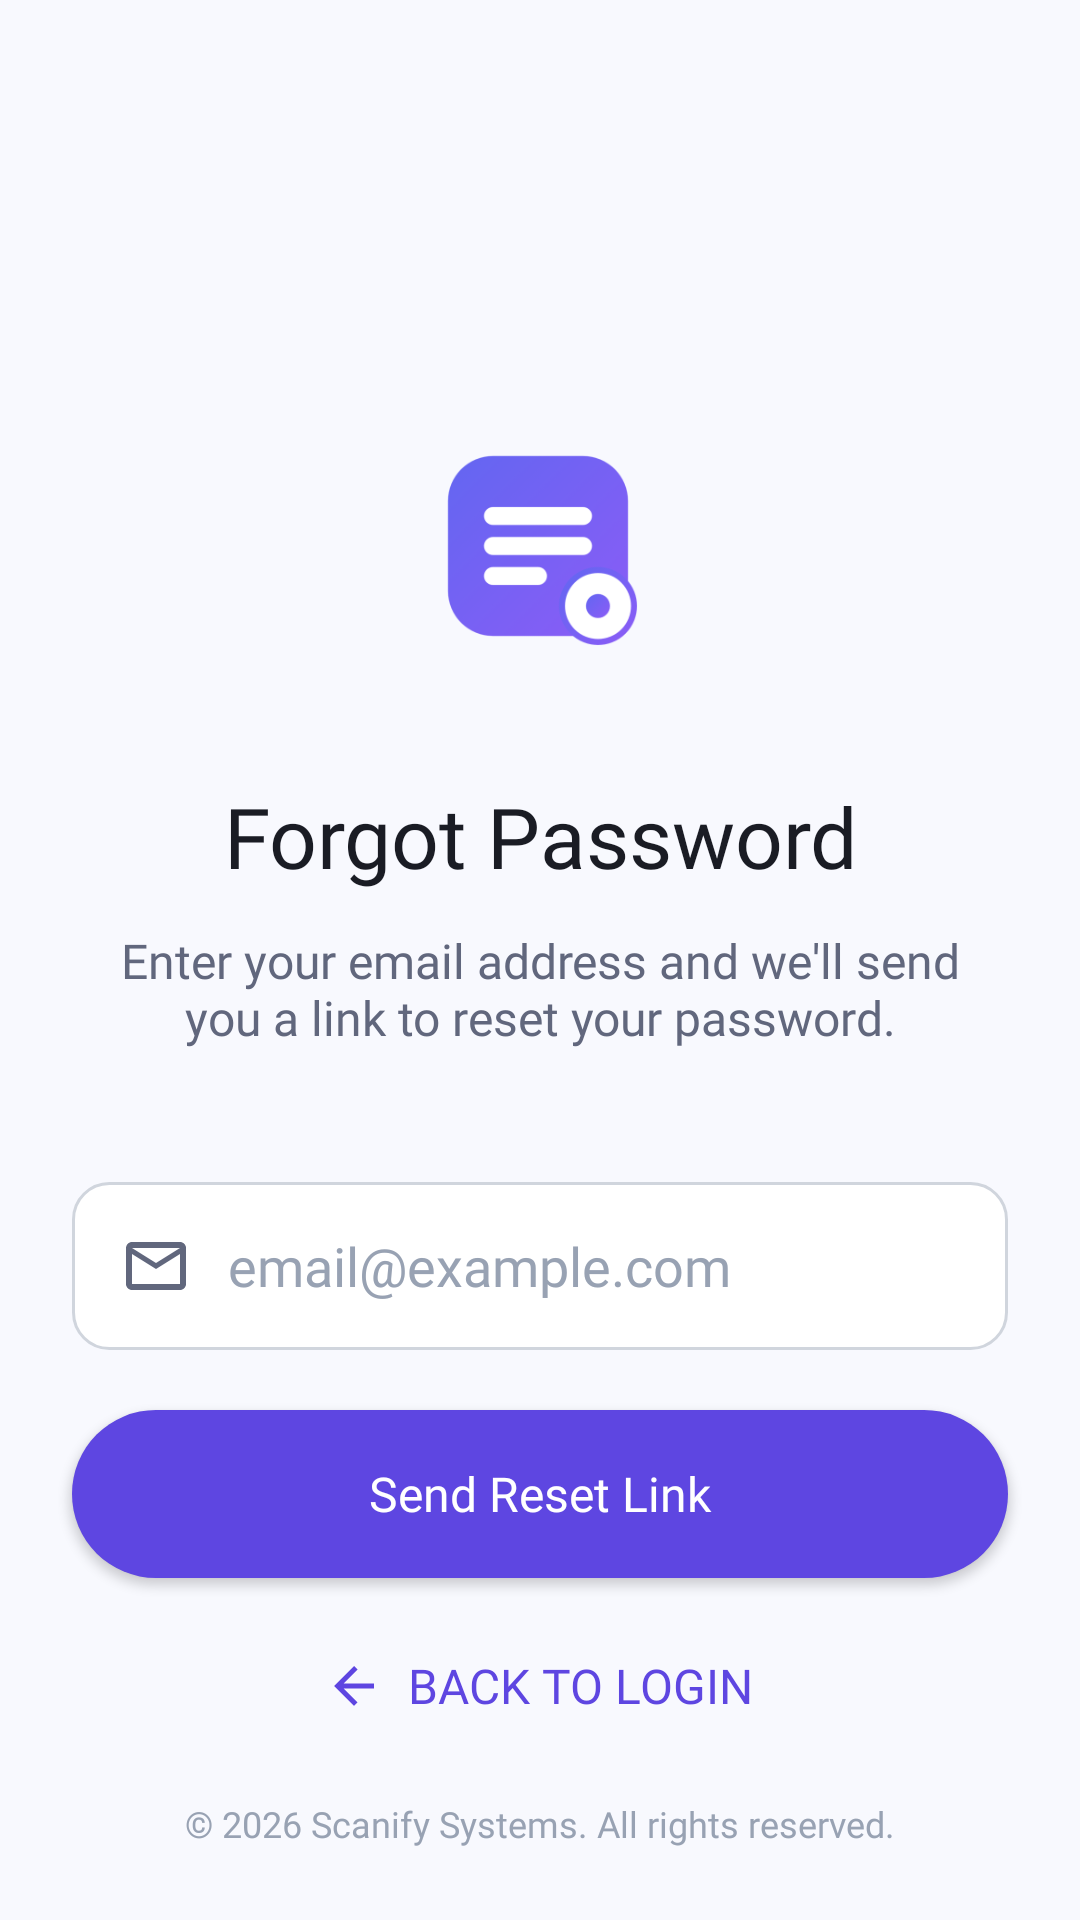

Icons on this 1080 x 1920 Android screen, each with its box as (x1, y1, x2, y2):
Back Arrow: (334, 1666, 374, 1706)
